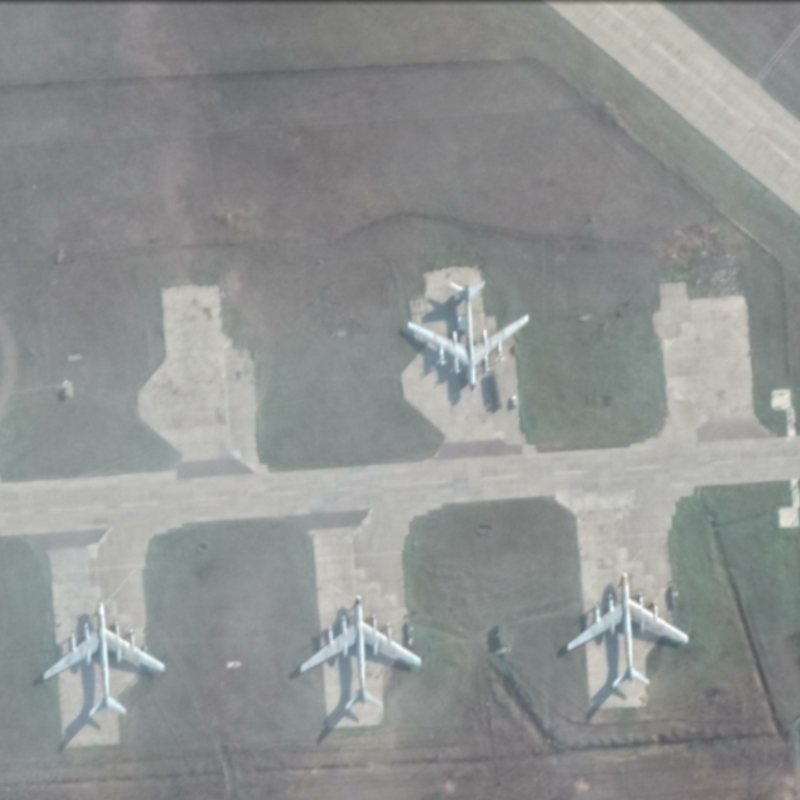A17: (40, 598, 169, 721), (564, 571, 691, 692), (297, 592, 424, 712), (405, 278, 532, 394)
